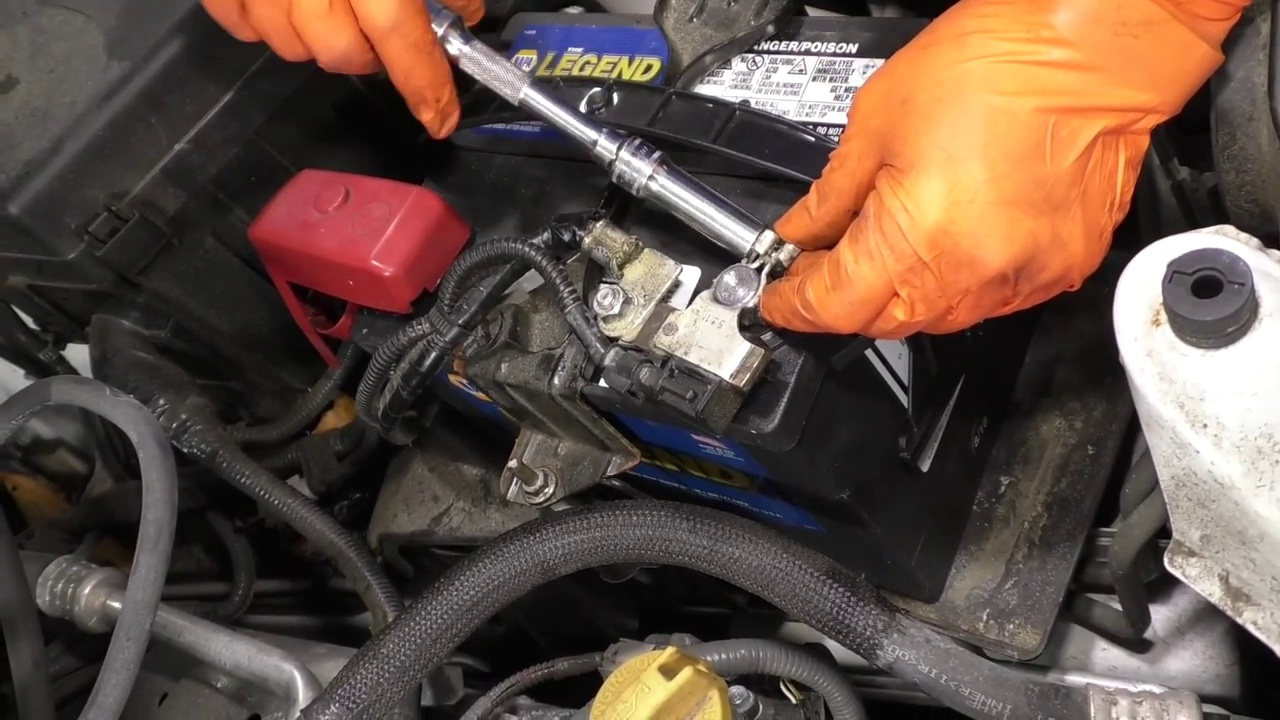battery: (334, 15, 943, 435)
neg_connected: (638, 234, 766, 413)
neg_touched: (660, 190, 878, 408)
pos_connected: (244, 147, 479, 372)
